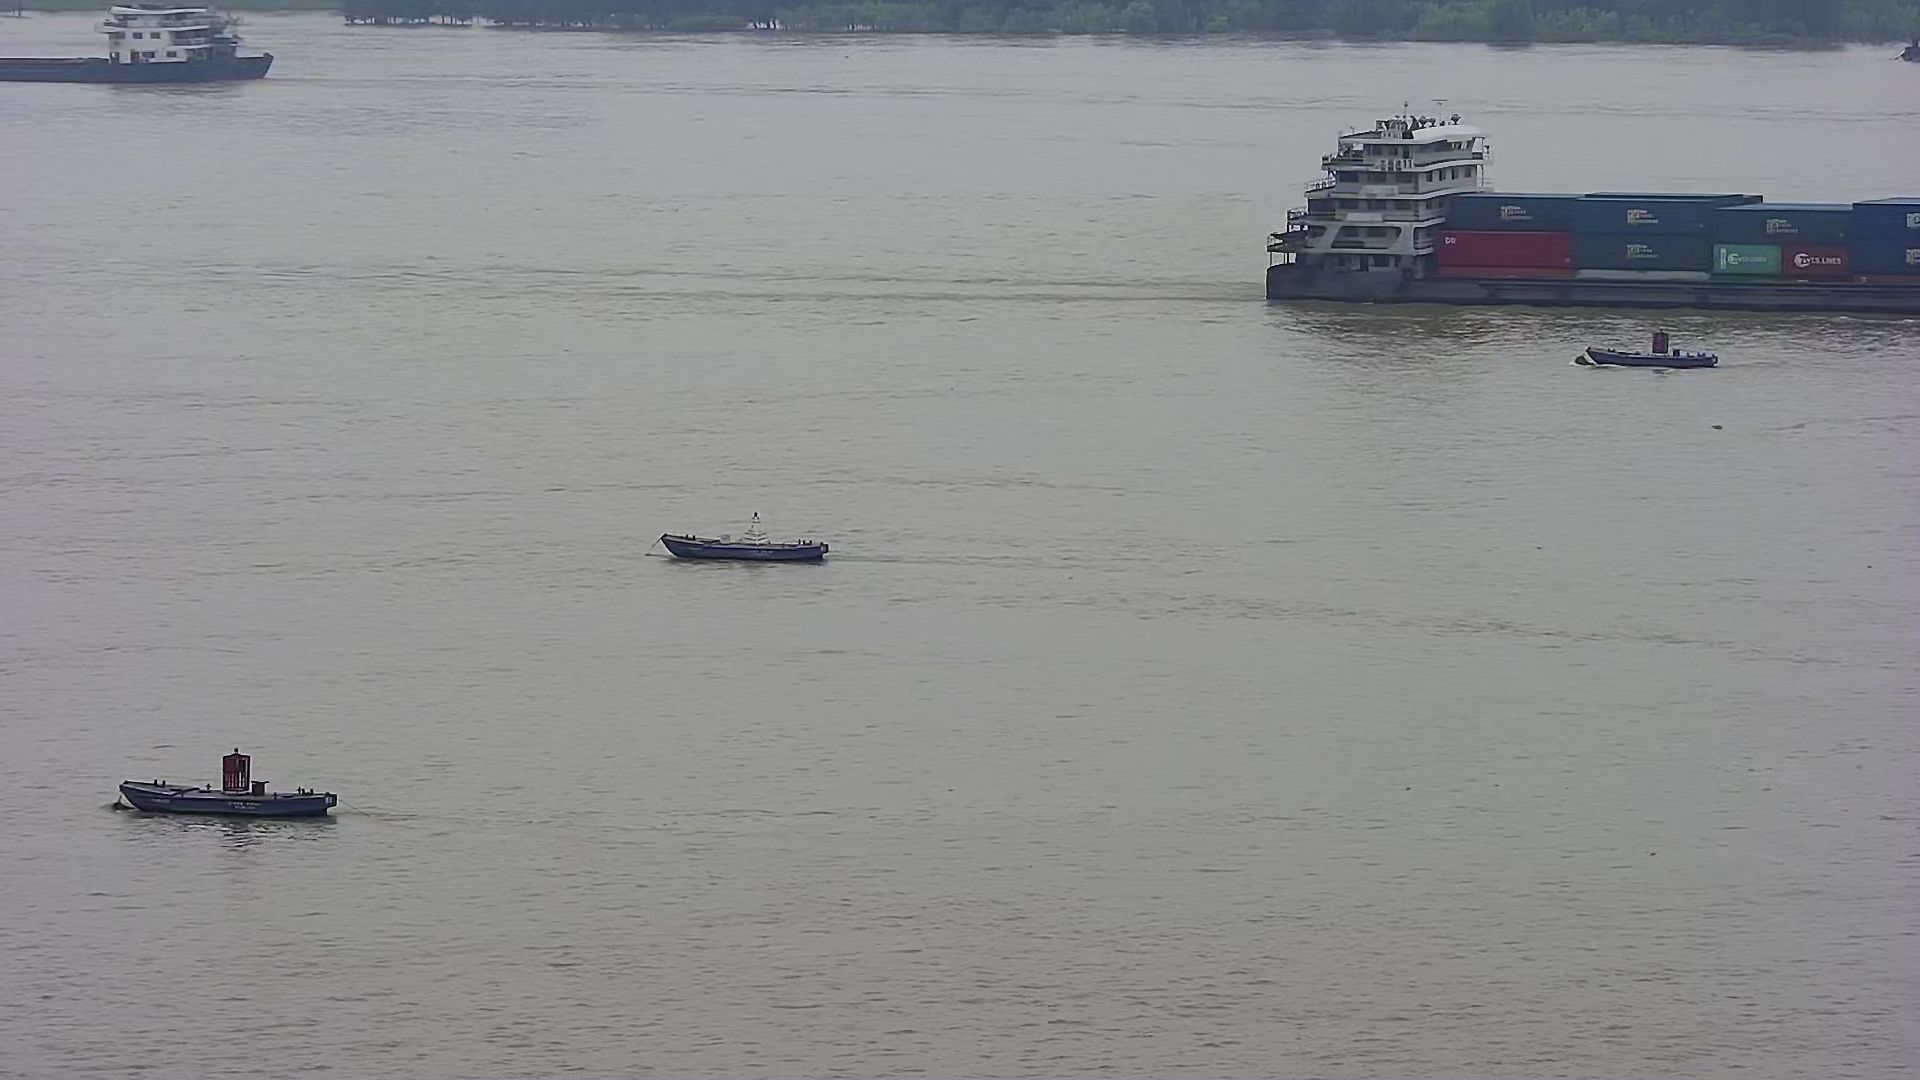boat: (119, 742, 349, 825), (651, 508, 840, 578), (1563, 320, 1726, 382)
ship: (1247, 83, 1917, 324), (1, 1, 305, 91)
